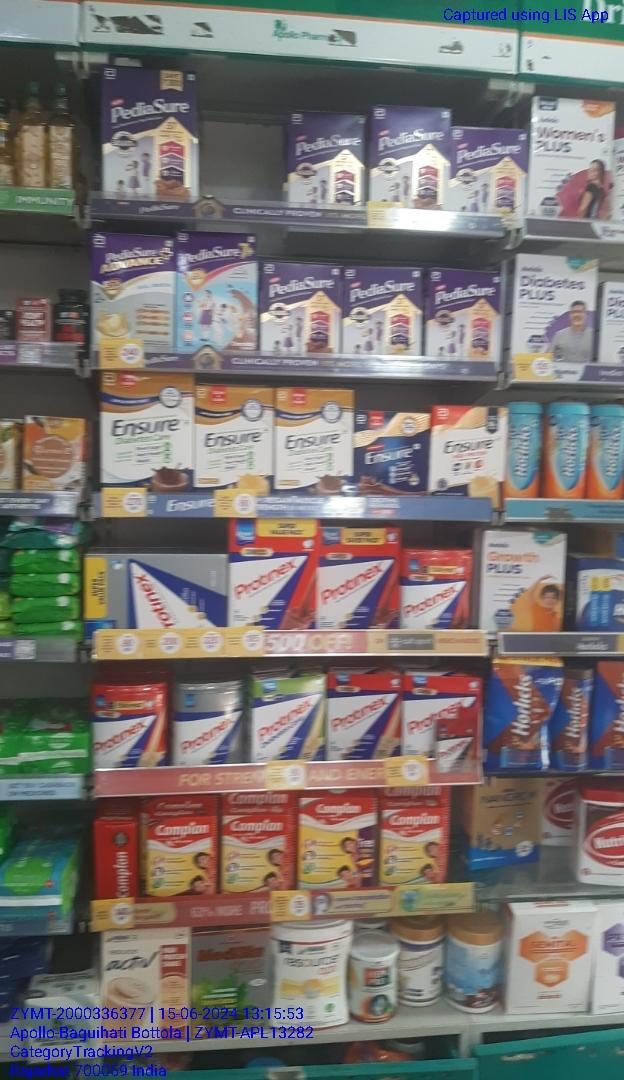COMPLAN_CREAMY_CLASSIC_500_G_PACK: (298, 799, 377, 889)
HORLICKS_LITE_REGULAR_MALT_500_GM_JAR: (546, 403, 587, 498), (507, 403, 542, 498), (590, 405, 624, 495)
HORLICK_CHOCOLATE_500_G_JAR: (556, 668, 592, 769)
HORLICK_CHOCOLATE_750_G_POUCH: (486, 658, 552, 771)
PEDIASURE_7_PLUS_CHOCOLATE_400_G_PACK: (176, 231, 257, 346)
PEDIASURE_CHOCOLATE_500_G_PACK: (102, 65, 200, 194)
PROTINEX_CHOCOLATE_400_G_JAR: (402, 549, 469, 630)
PROTINEX_ORIGINAL_400_G_JAR: (170, 684, 247, 765)
PROTINEX_VANILLA_400_G_JAR: (92, 682, 167, 767)
